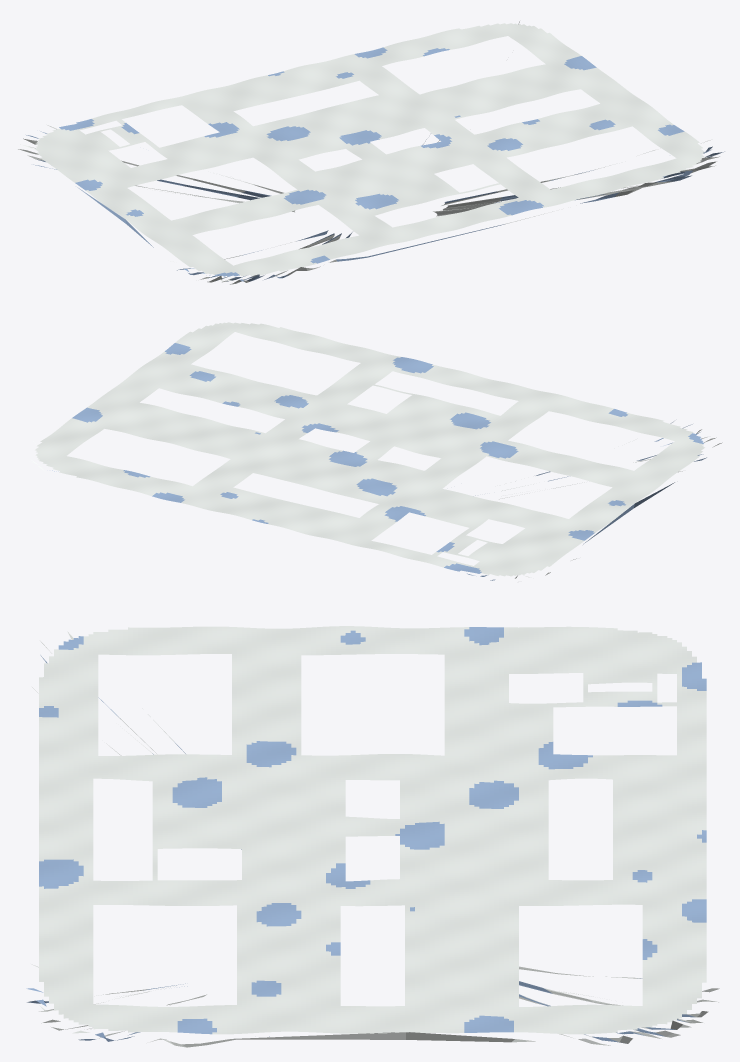
File: island.glb
3 views of the same model, one above another, from view 1: azimuth 30°, elevation 25°; view 2: azimuth 150°, elevation 25°; view 3: azimuth 270°, elevation 25° (orthographic). The views are drawn at different scales.
Parts seen in each view (by area): view 1: Ground, Skirt; view 2: Ground, Skirt; view 3: Ground, Skirt.
Part boxes in pixels (box(x1,y1,x2,y2)): Ground: box(35, 23, 704, 276); Skirt: box(18, 21, 724, 284); Ground: box(35, 322, 704, 576); Skirt: box(31, 421, 722, 580); Ground: box(39, 626, 706, 1034); Skirt: box(26, 631, 719, 1047).
Bounding box in the file's own units: 41.46 × 4.46 × 28.79.
